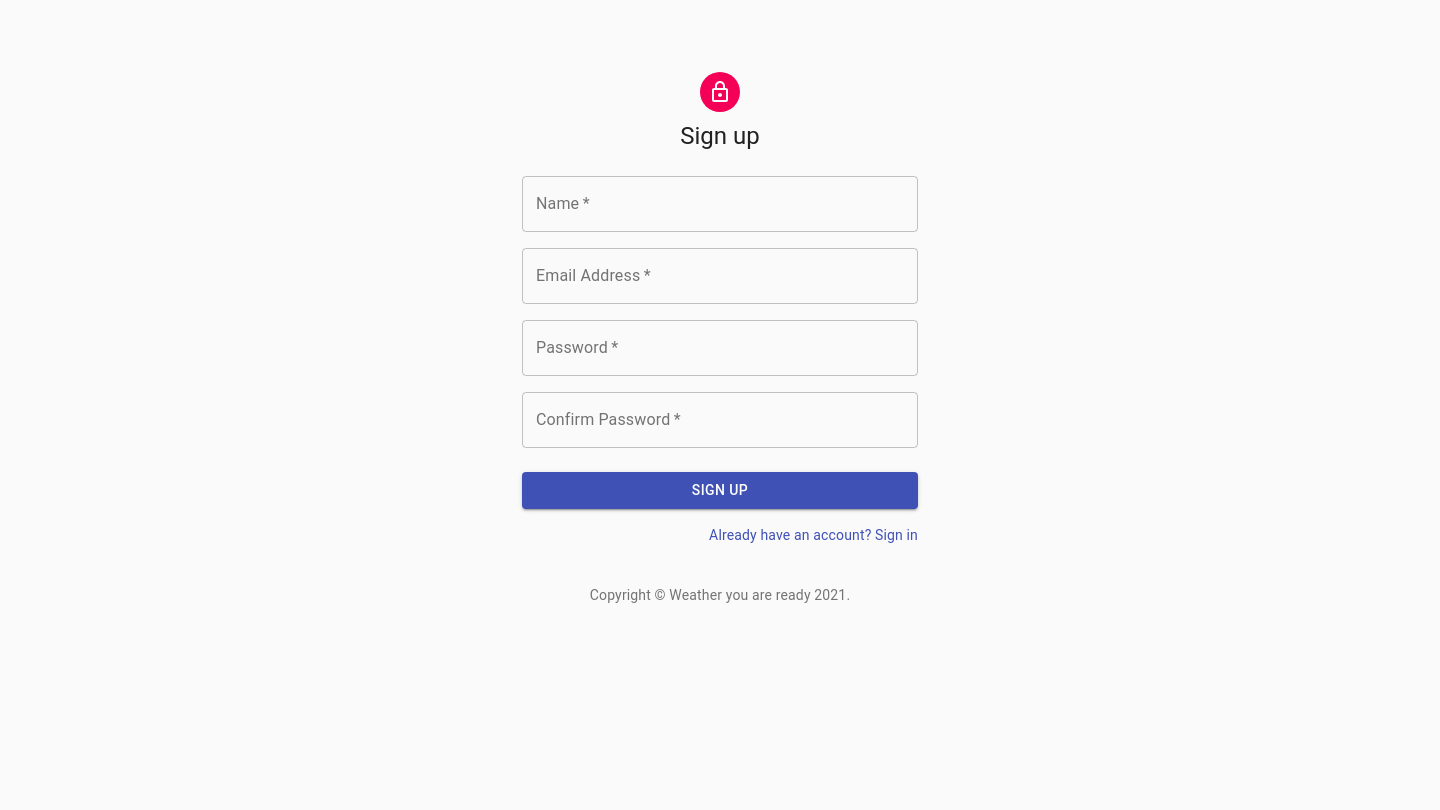
Test: checkRouting › route to signin page after a successful signup
Expected: the field with test id "email-input" is empty, [522, 248, 918, 304]
Expected: the password field with test id "password-input" is empty, [522, 320, 918, 376]
fill the form
In the field with test id "name-input": (720, 204) [522, 176, 918, 232], type "user"
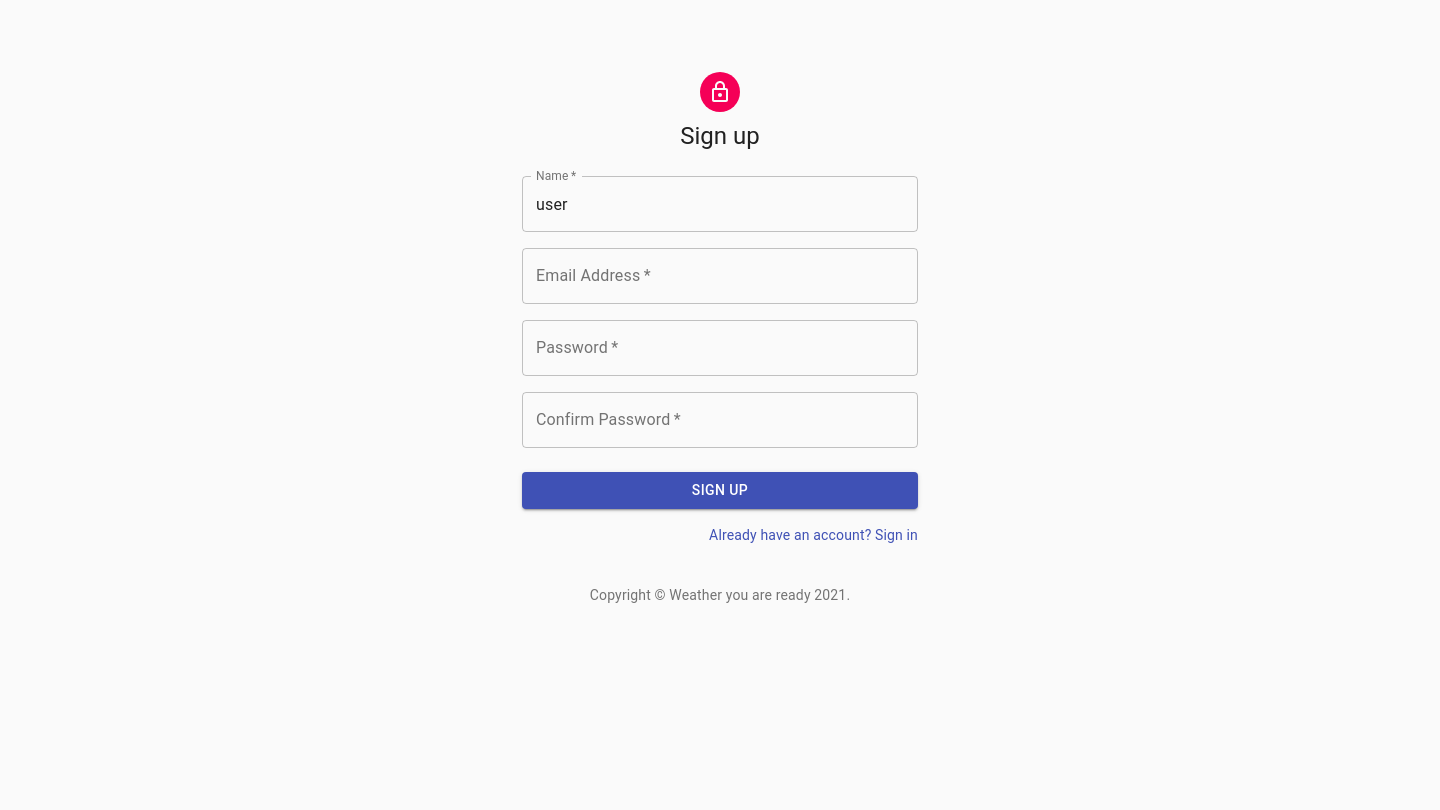
In the field with test id "email-input": (720, 276) [522, 248, 918, 304], type "test@gmail.com"
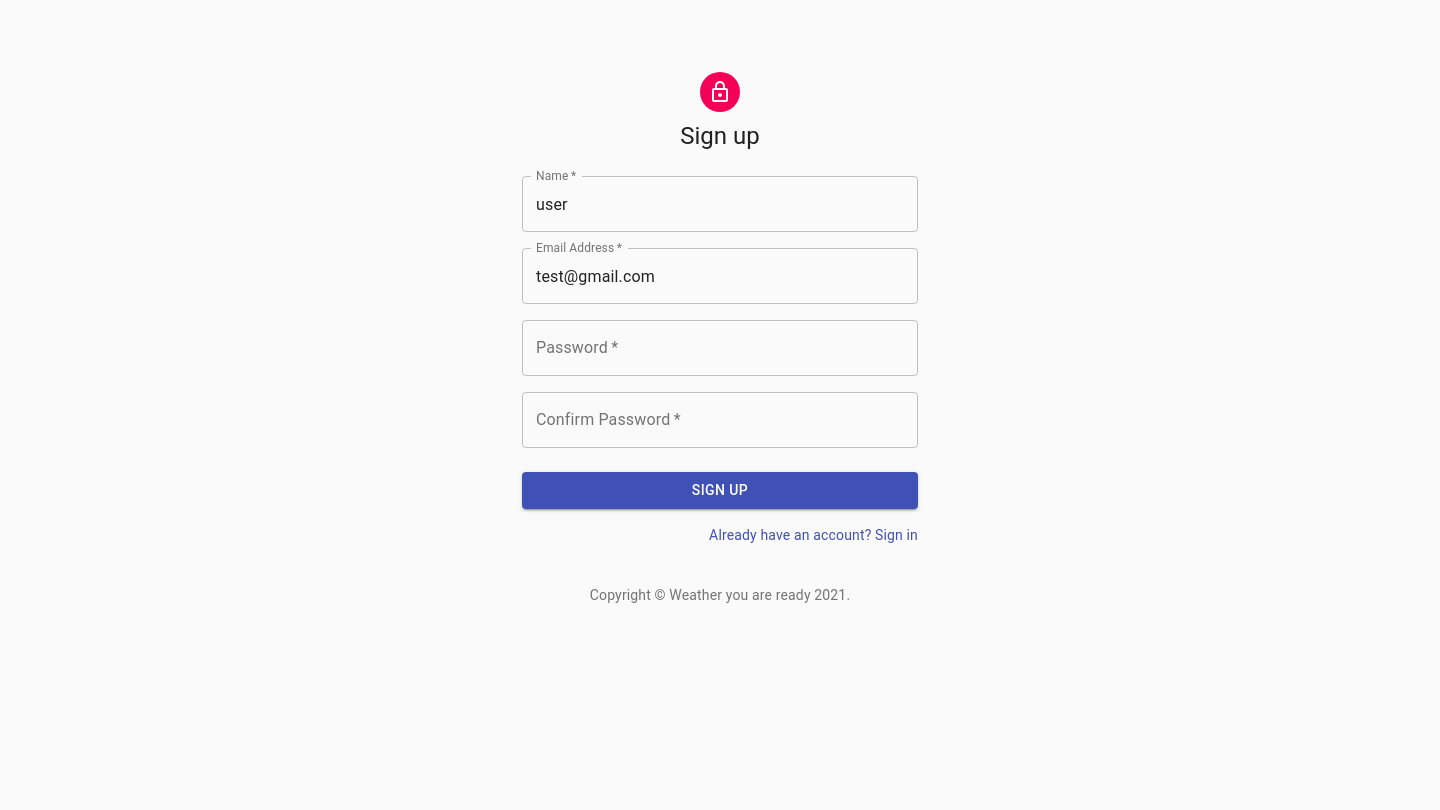
In the password field with test id "password-input": (720, 348) [522, 320, 918, 376], type "password"
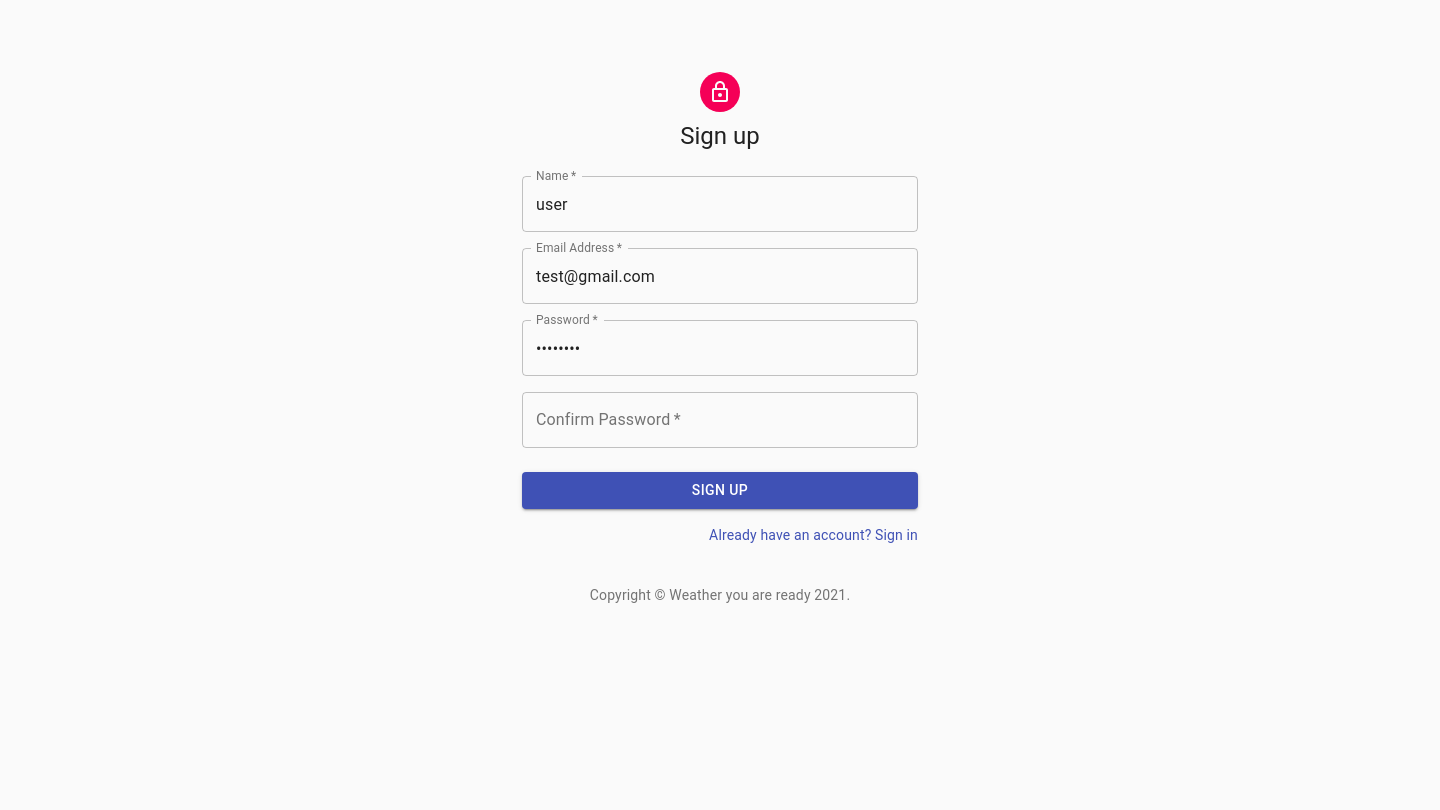
In the password field with test id "confirm-password-input": (720, 420) [522, 392, 918, 448], type "password"
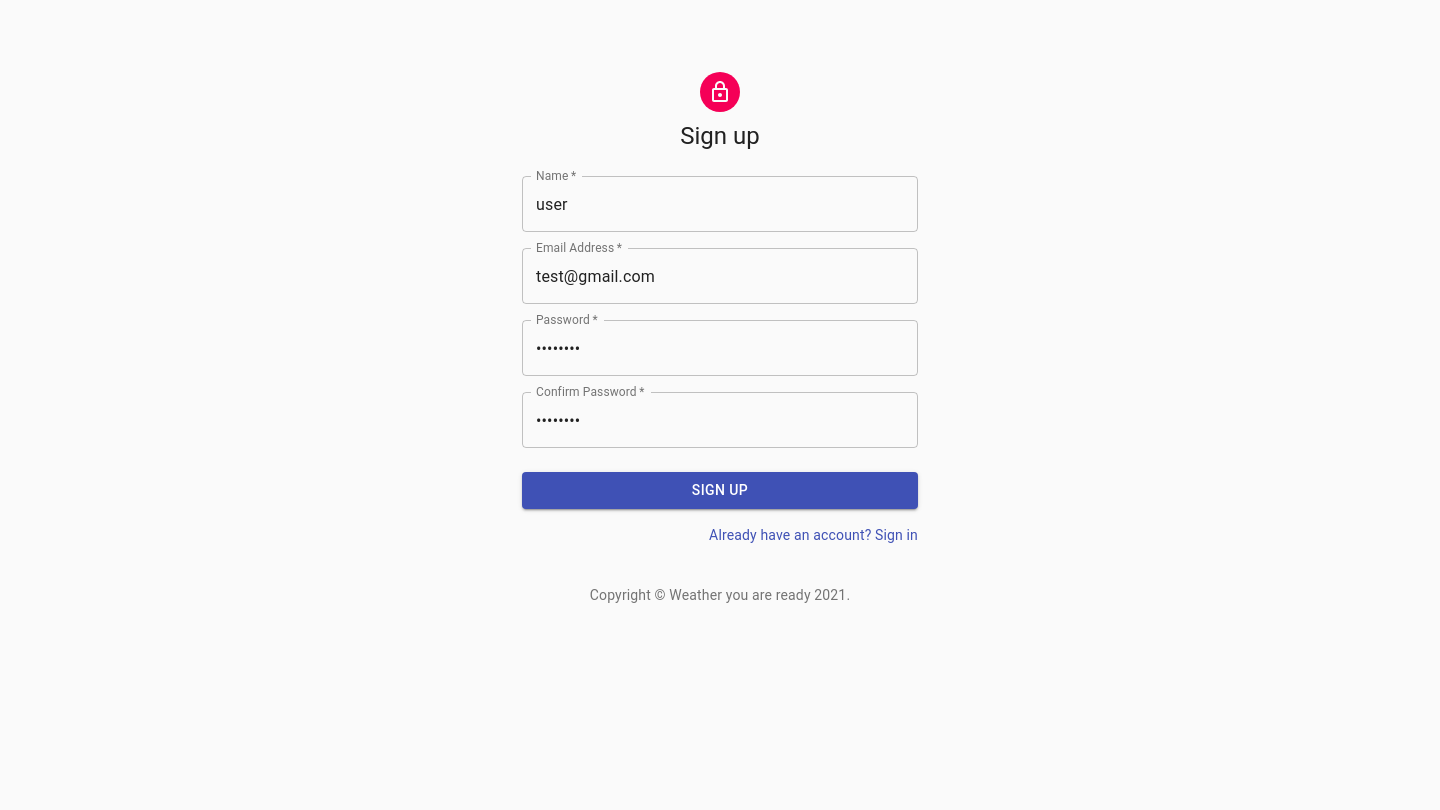
submit the form
Click the button with test id "submit": (720, 490) [522, 472, 918, 508]
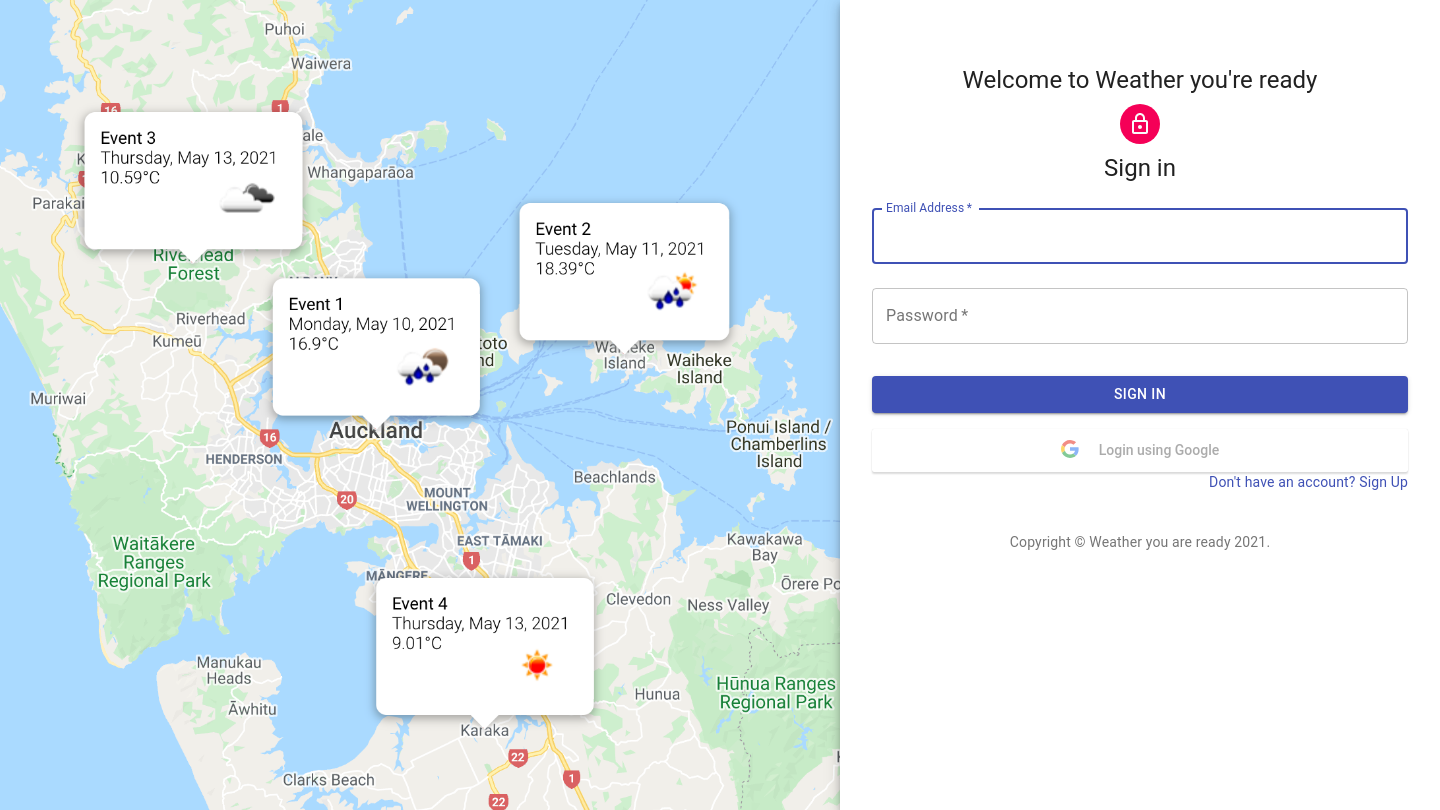
Expected: the text "Sign In" is shown, [1114, 386, 1166, 402]
